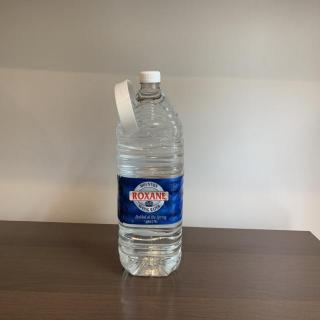Anorganik: (108, 66, 190, 283)
